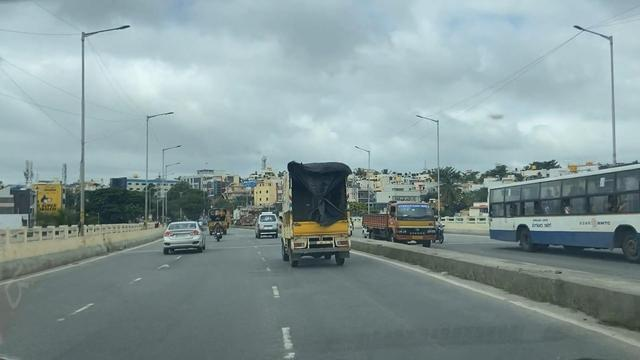HMV: (482, 166, 640, 258), (281, 156, 357, 269), (363, 196, 440, 246)
